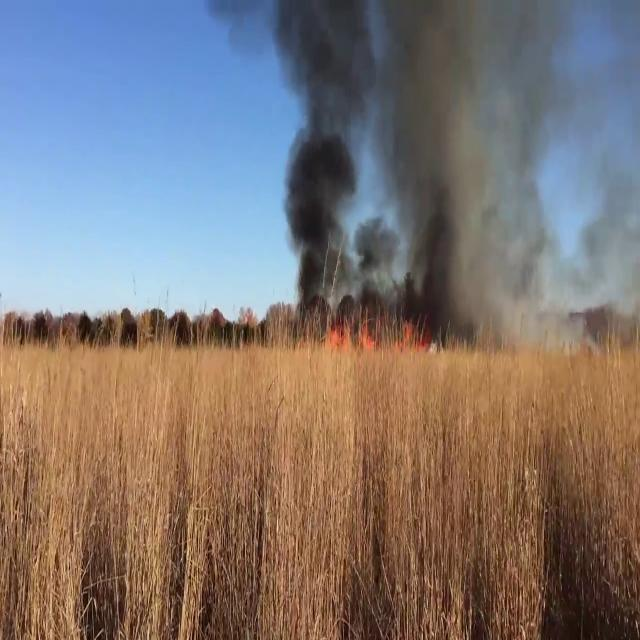Smoke: (375, 0, 640, 345), (266, 0, 380, 317)
